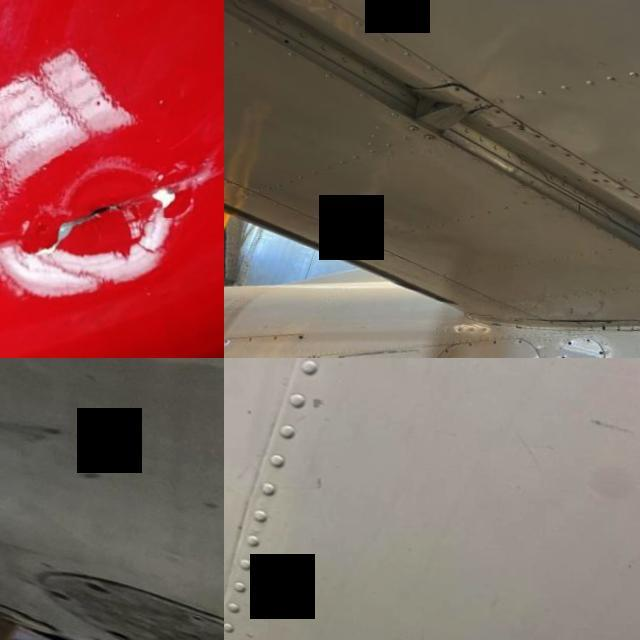Crack: (0, 112, 224, 300)
Missing_Fastener: (602, 345, 608, 348), (520, 335, 526, 338), (566, 351, 570, 354), (571, 336, 576, 338), (447, 346, 452, 348)
